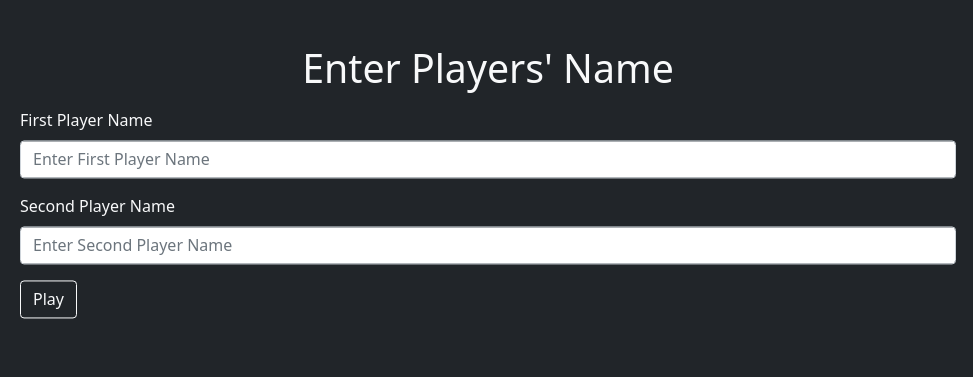
it: App › warns when the player names are missing
Step 1. Click the button "Play" → (48, 300), box [20, 281, 77, 319]
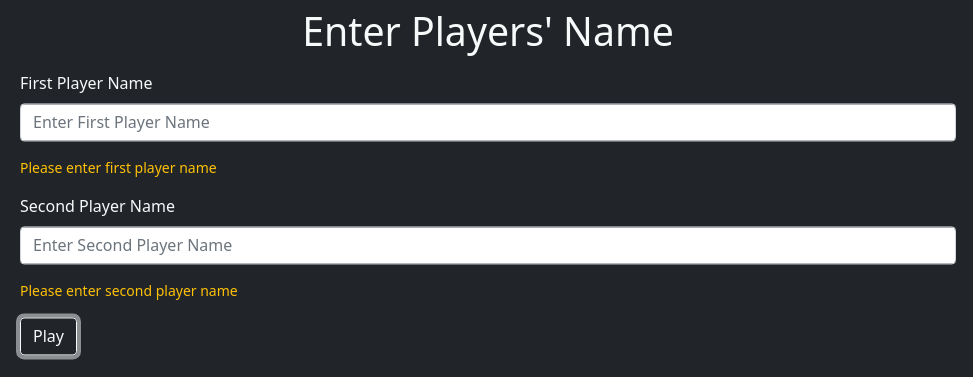
Now the text "Please enter first player name" is shown, box [20, 159, 217, 178]
Now the text "Please enter second player name" is shown, box [20, 282, 238, 301]
